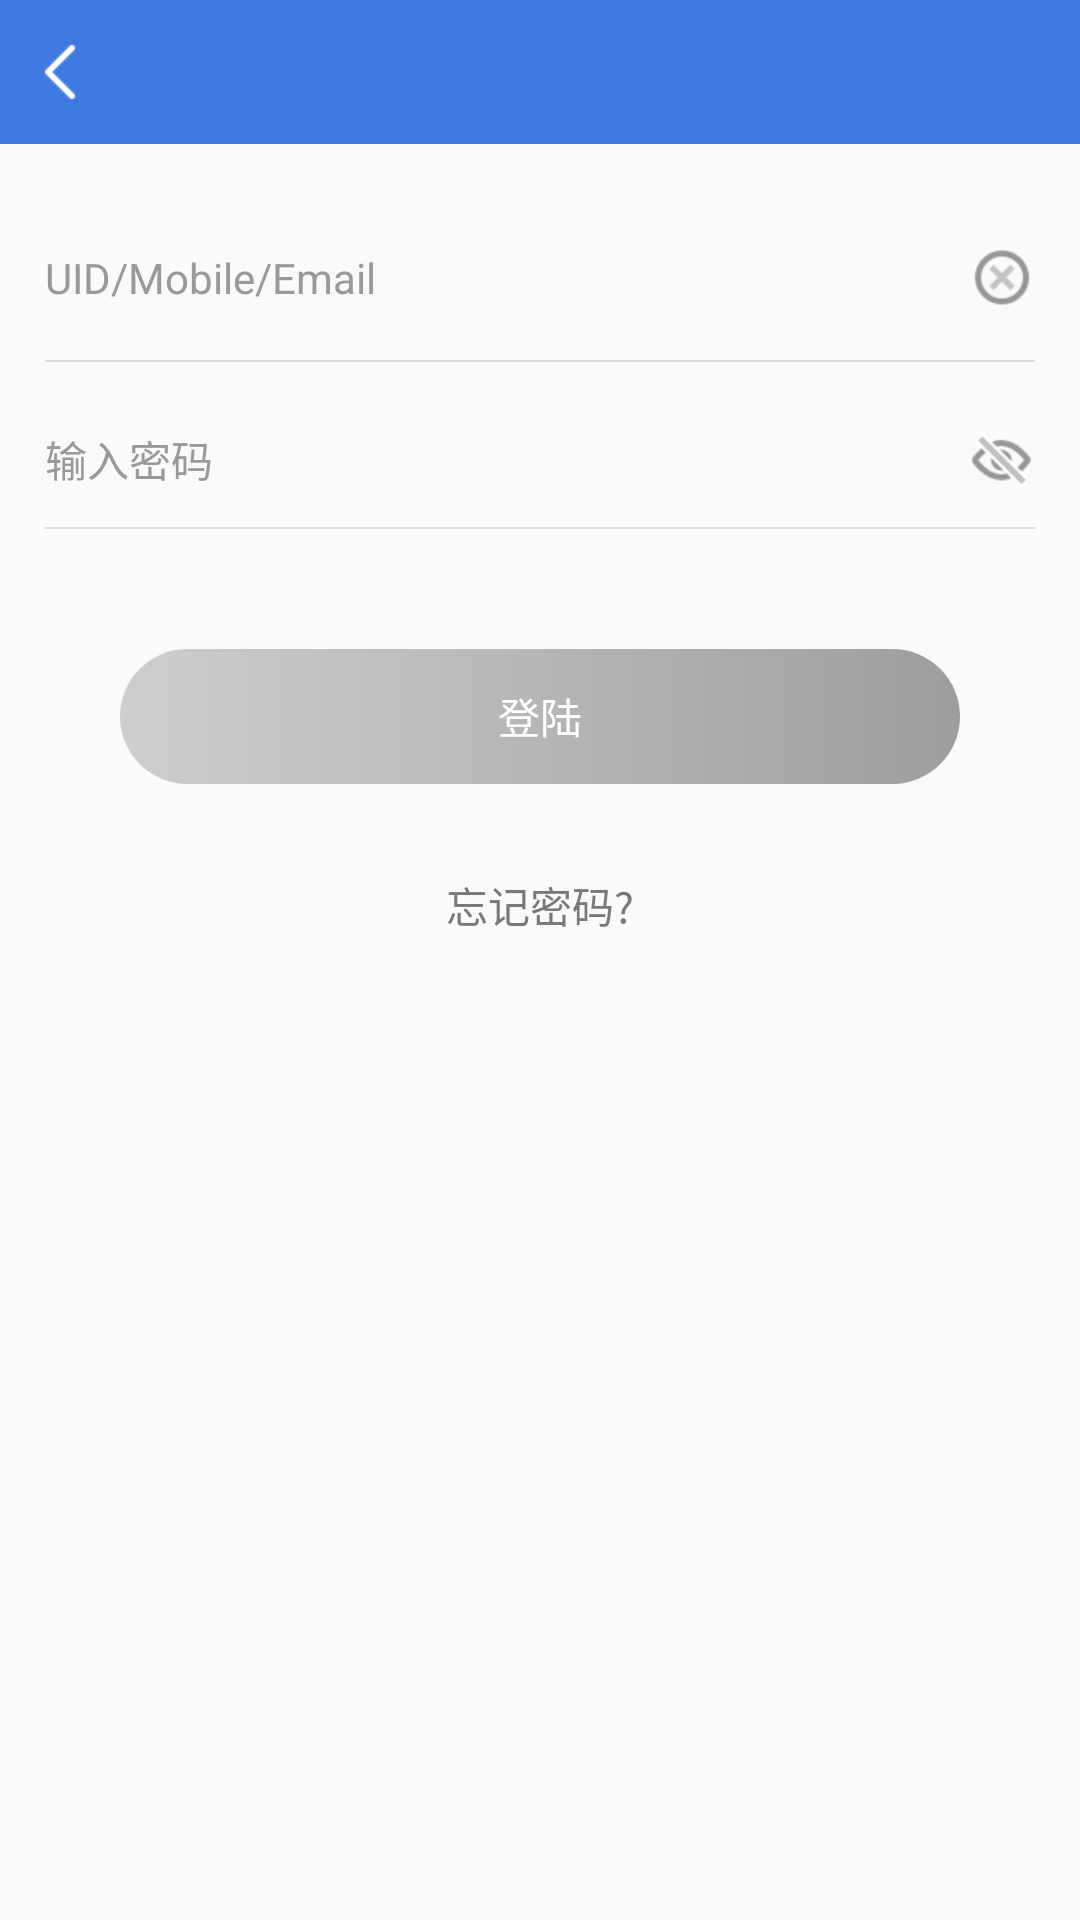

Screen size 1080x1920. Icon name, then its box in pixels as box=[x1, y1, x2, y2]:
back: box=[44, 44, 76, 100]
clear name: box=[975, 250, 1029, 305]
eye close: box=[972, 437, 1031, 483]
